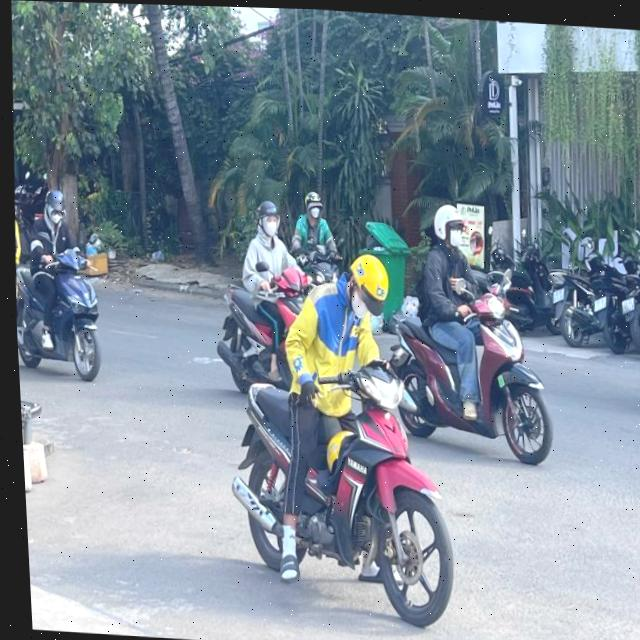motorcycle: (213, 321, 470, 621), (374, 281, 562, 467), (214, 262, 328, 400), (12, 240, 112, 386), (550, 256, 640, 351)
